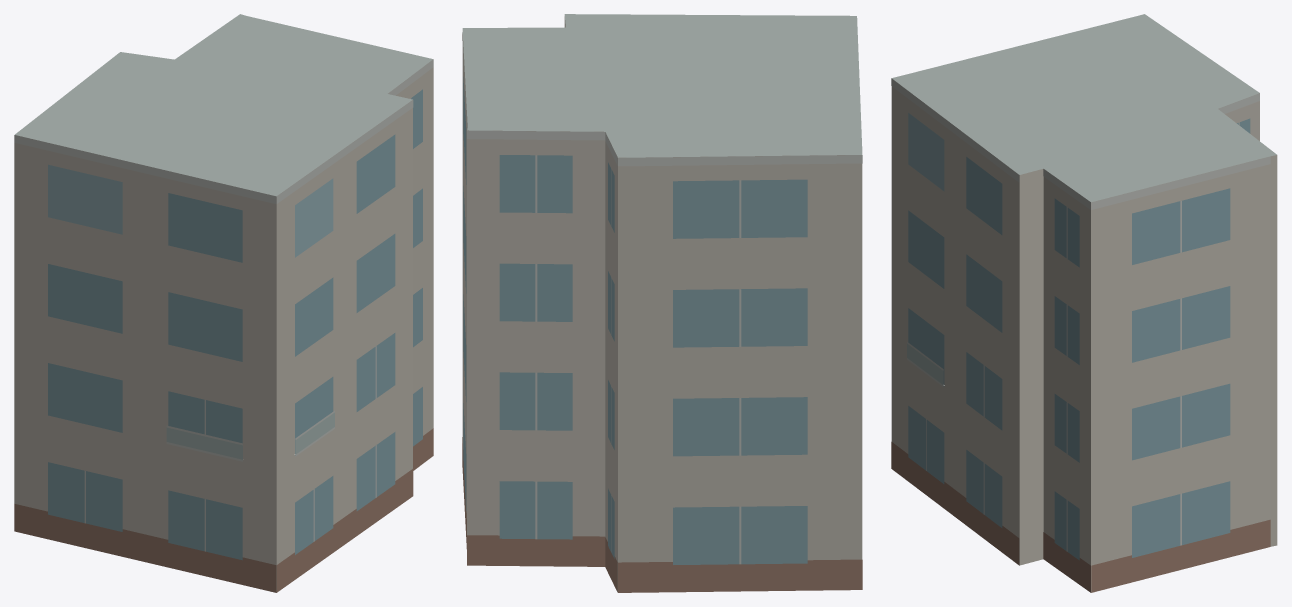
The model's file is survey-upis-32468873.glb.
3 renders of one model, left to right at view 1: azimuth 30°, elevation 25°; view 2: azimuth 150°, elevation 25°; view 3: azimuth 270°, elevation 25°, orthographic. The views are drawn at different scales.
Visible parts, largest first — view 1: survey-upis-32468873.tmp; view 2: survey-upis-32468873.tmp; view 3: survey-upis-32468873.tmp.
Part boxes in pixels (x1,y1,x2,y2): survey-upis-32468873.tmp: [14, 14, 433, 592]; survey-upis-32468873.tmp: [462, 14, 862, 592]; survey-upis-32468873.tmp: [891, 14, 1277, 592].
Size of the model in its own units: 12.63 by 12.2 by 10.94.
